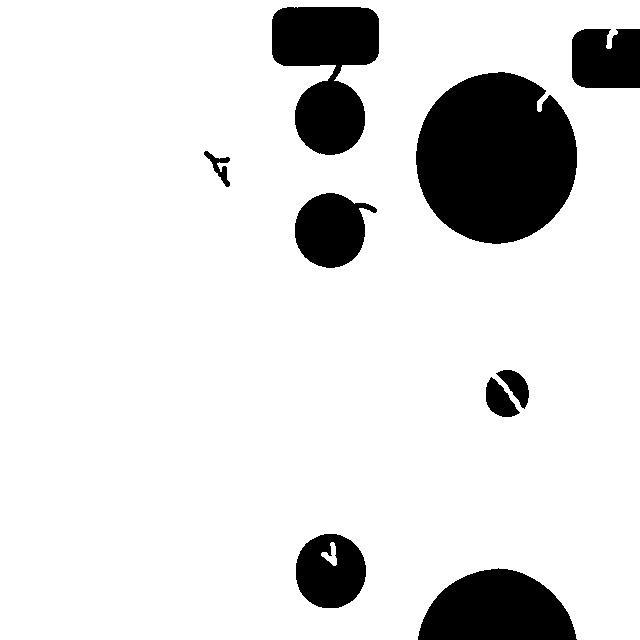copper: (194, 141, 239, 196)
mousebite: (527, 74, 565, 121), (596, 19, 627, 58)
open: (480, 362, 538, 427)
pin-hole: (311, 532, 346, 575)
short: (318, 44, 356, 96)
spur: (344, 193, 386, 222)
